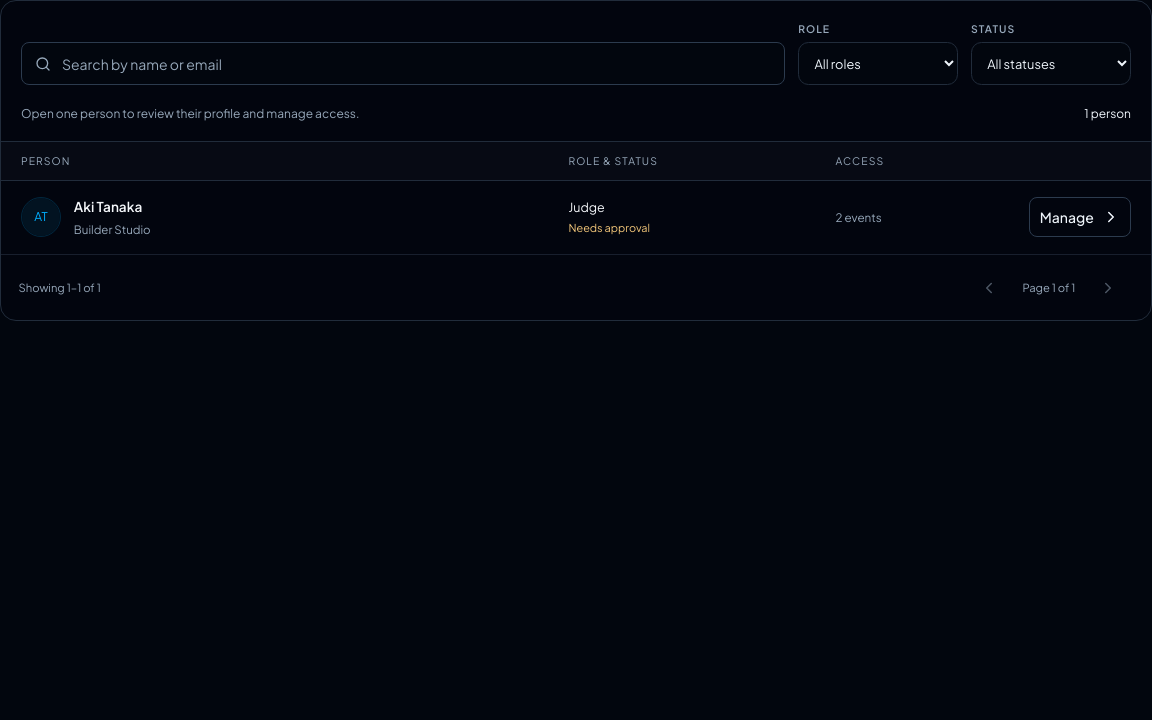
Test: admin people directory › discards unsaved access on close without writing and keeps unknown event grants
The image size is (1152, 720).
Click the button with aria-label "Manage Aki Tanaka". click: point(1080, 217)
box: [1029,197,1131,237]
(page scrolled)
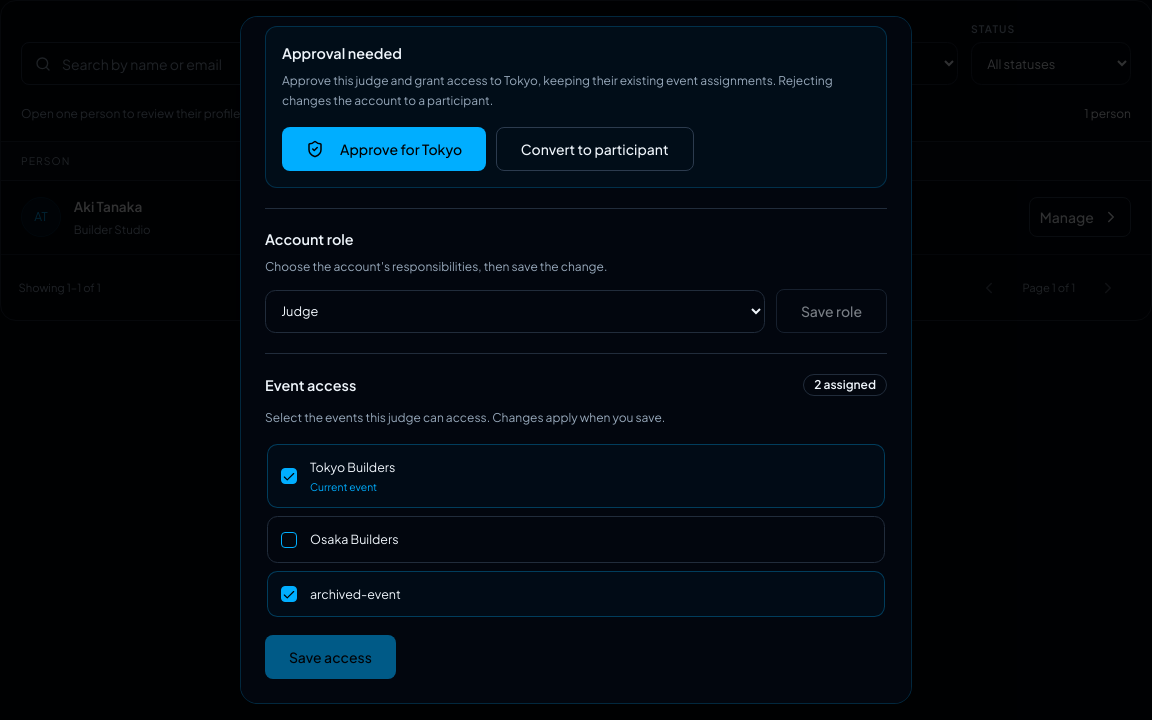
Expected: the checkbox named "archived-event" next to "archived-event" is checked, [281,586,297,602]
Click the checkbox named "Osaka Builders" next to "Osaka Builders". click: point(289, 540)
box: [281,532,297,548]
(page scrolled)
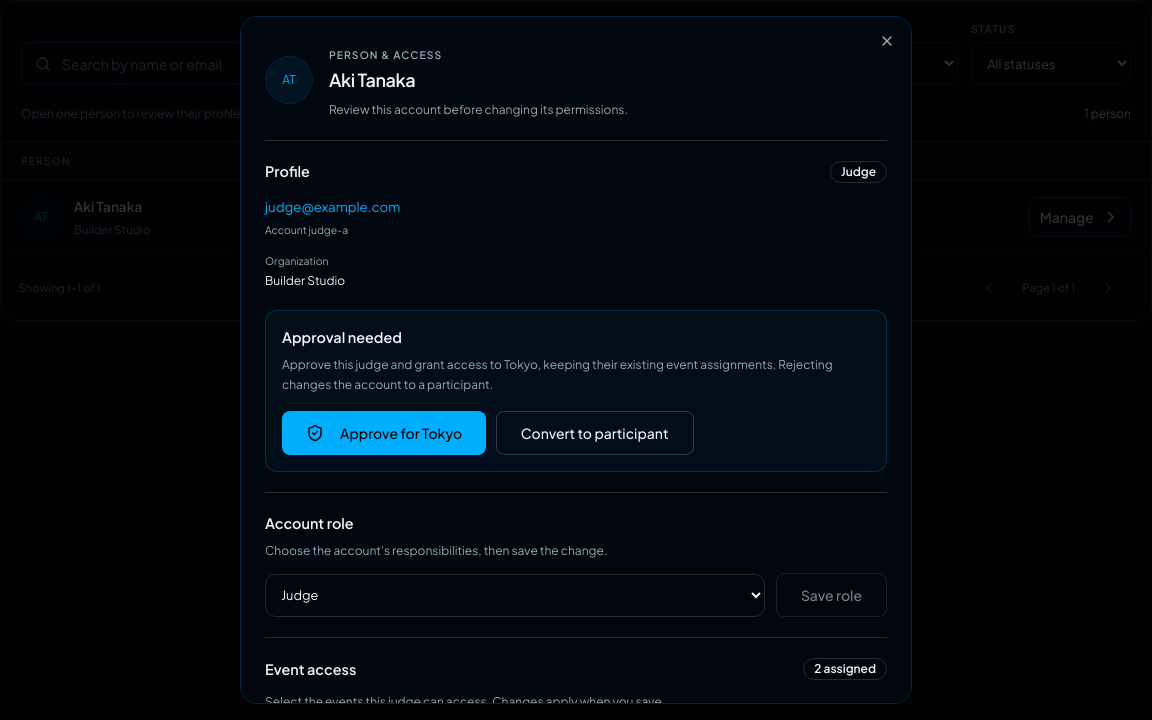
Click the button named "Close". click: point(887, 41)
box: [879,33,895,49]
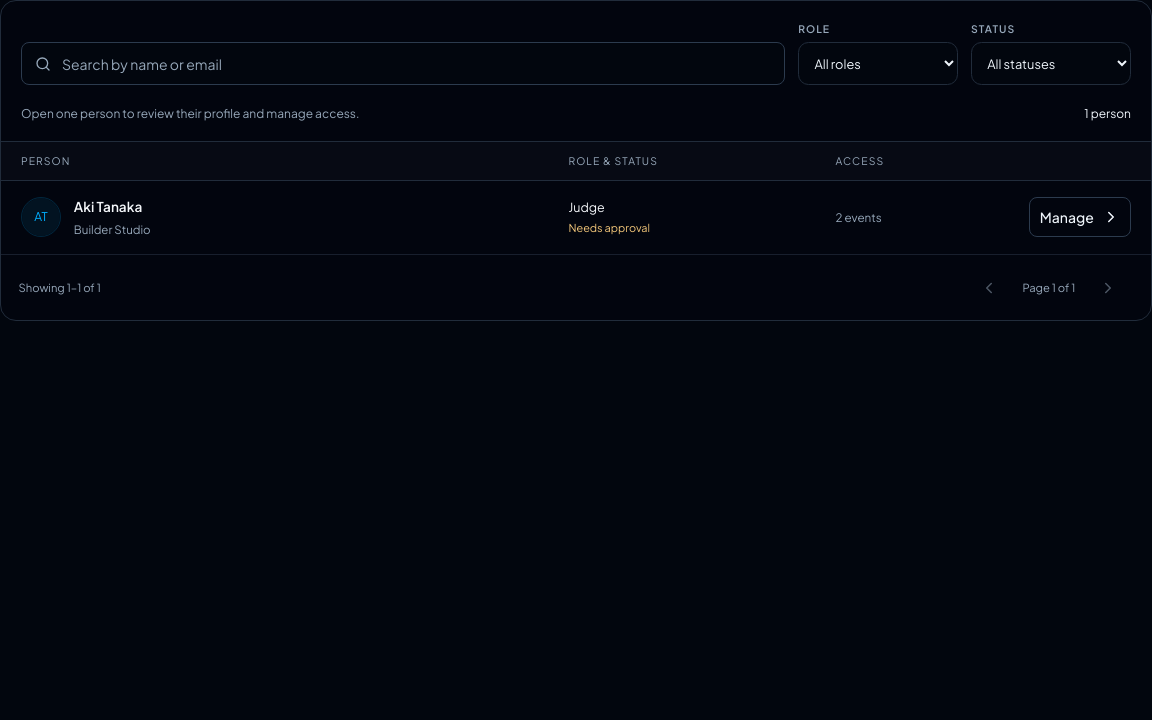
Click the button with aria-label "Manage Aki Tanaka". click: point(1080, 217)
box: [1029,197,1131,237]
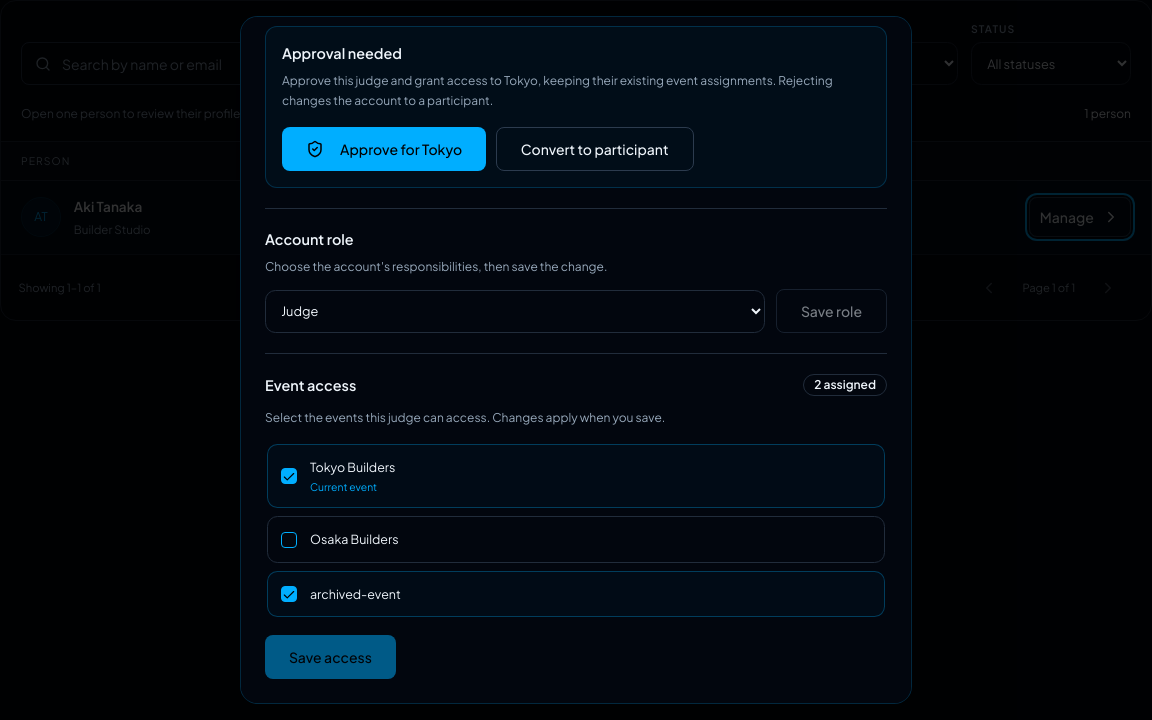
Expected: the checkbox named "Osaka Builders" next to "Osaka Builders" is not checked, [281,532,297,548]
Expected: the checkbox named "archived-event" next to "archived-event" is checked, [281,586,297,602]
